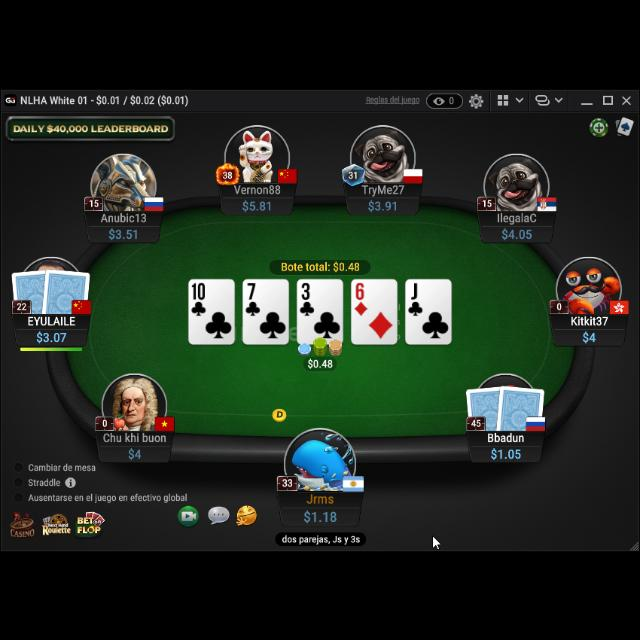3c: (298, 279, 316, 315)
6d: (354, 280, 368, 314)
7c: (245, 280, 263, 318)
Jc: (408, 280, 424, 316)
Qc: (408, 280, 424, 316)
Tc: (190, 280, 208, 314)
bet_text: (306, 354, 334, 368)
card_back: (42, 264, 92, 314), (496, 381, 546, 431), (10, 266, 54, 312), (465, 382, 507, 430)
dealer: (272, 404, 288, 422)
pot_text: (280, 258, 360, 270)
stack_text: (302, 504, 338, 522), (34, 327, 68, 343), (107, 223, 139, 239), (500, 224, 534, 238), (490, 443, 522, 457), (241, 196, 273, 210), (366, 195, 398, 209), (580, 326, 598, 339), (128, 442, 142, 456)
